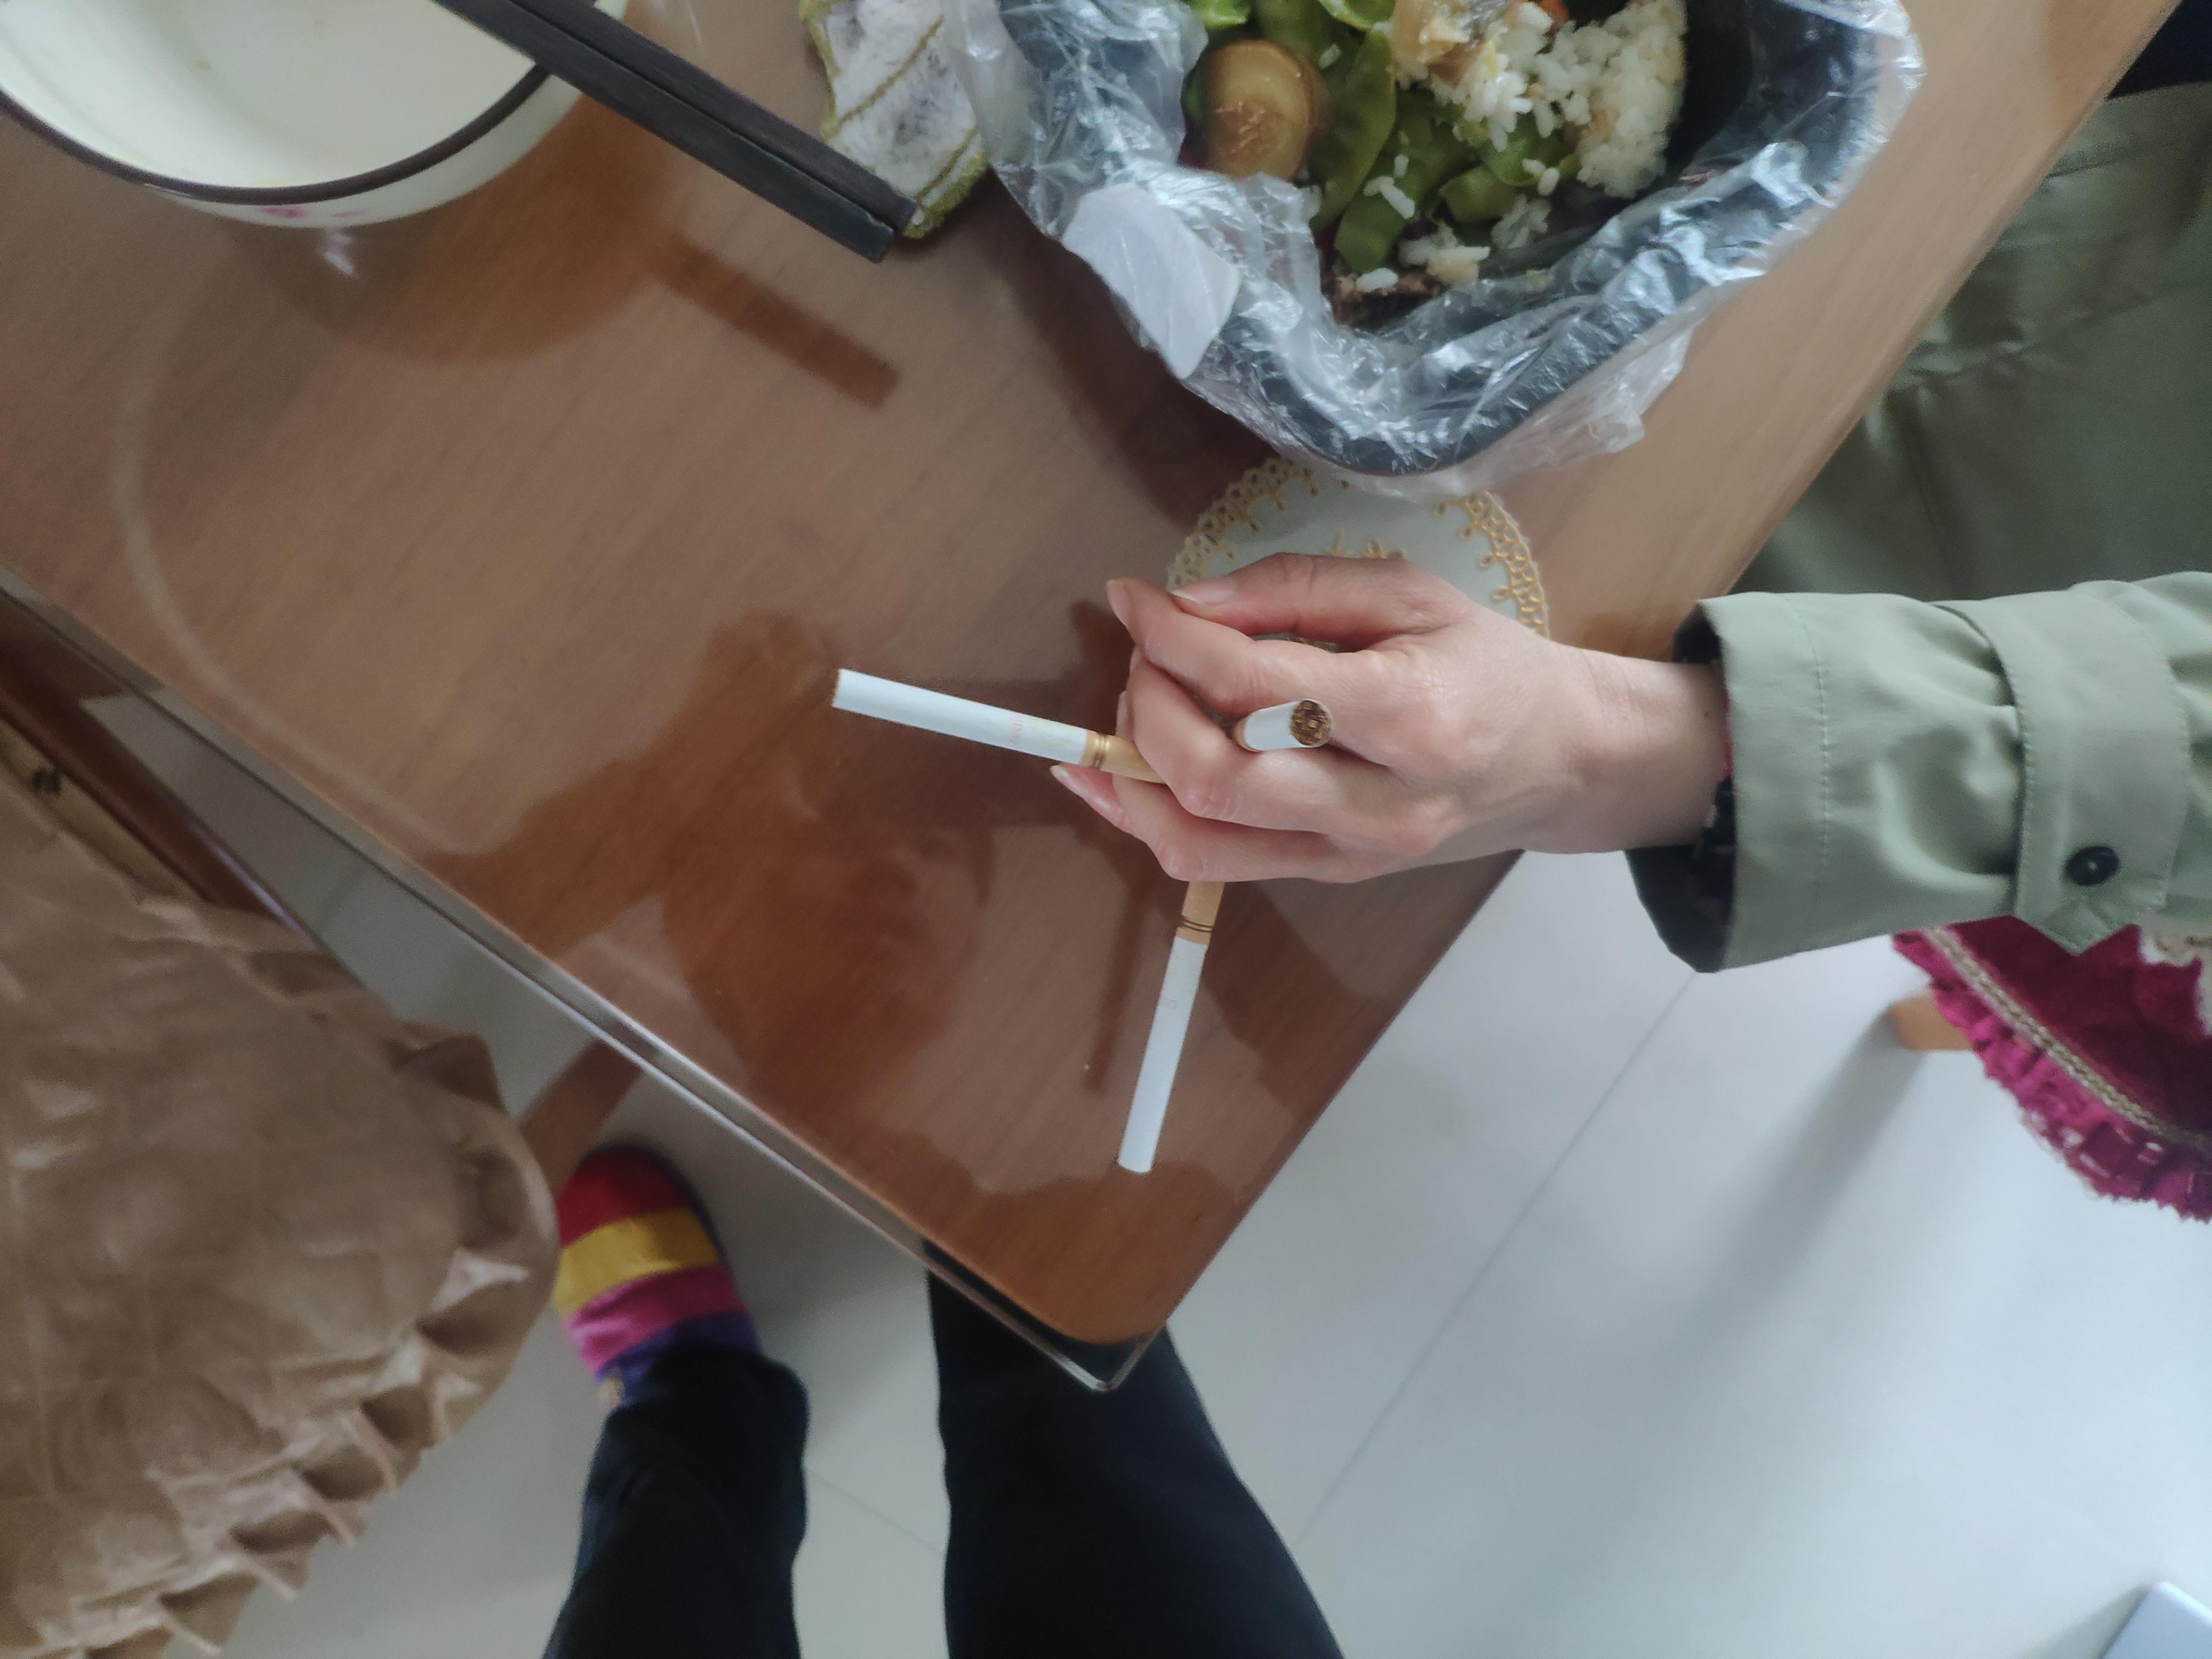smoke: (829, 664, 1188, 795), (1118, 842, 1235, 1176), (1226, 699, 1339, 756)
